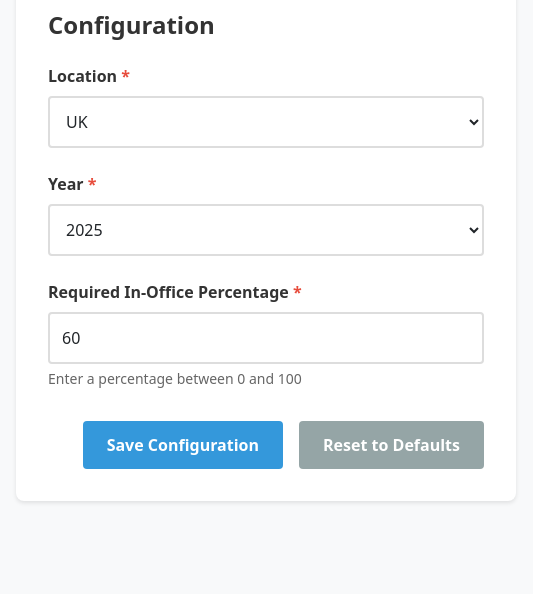
ConfigurationForm › Error Message Display › shows success message after successful save
This screenshot has width=533, height=594.
Submit with default valid configuration
Click the button "Save Configuration": (183, 445) [83, 421, 283, 469]
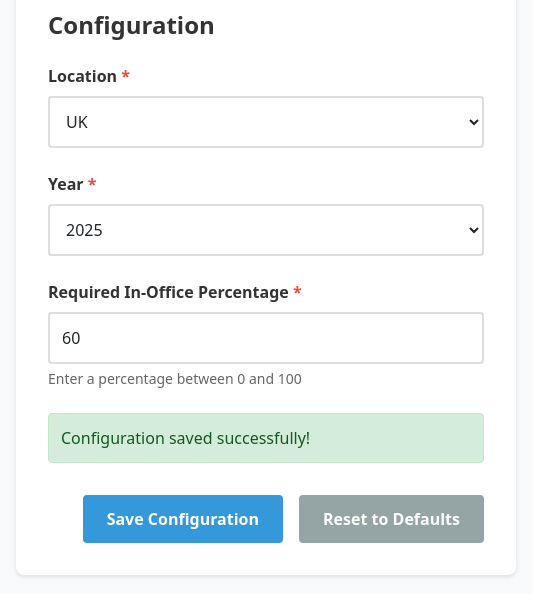
Expected: the text "Configuration saved successfully!" is shown, [48, 413, 484, 463]
